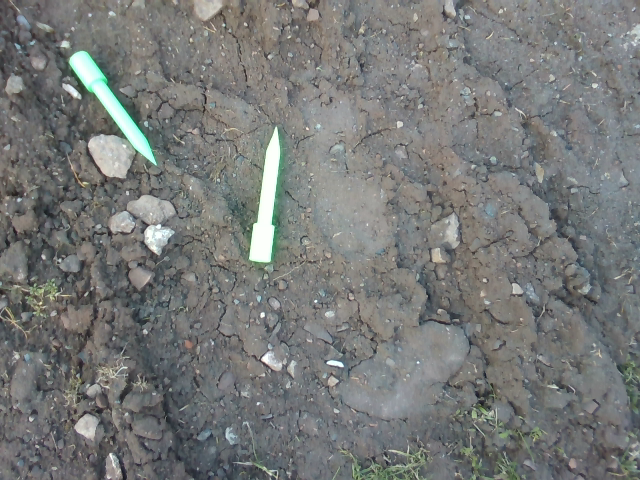Probe: (65, 47, 164, 171), (245, 122, 287, 269)
